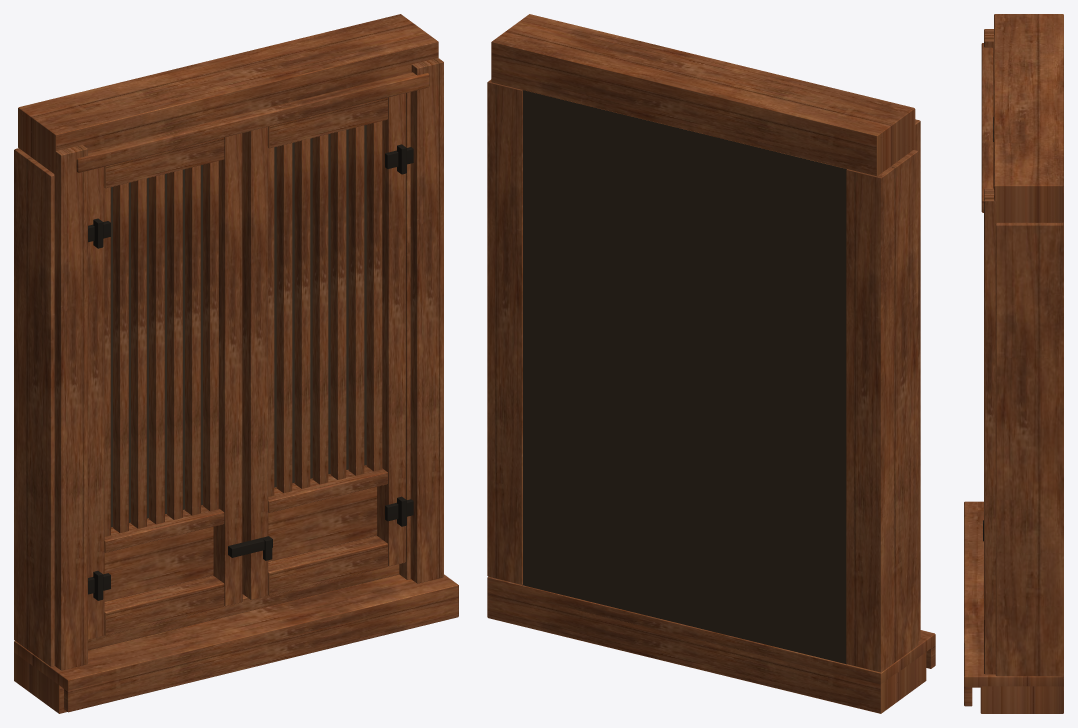
File: textile-screen-sc-v.glb
The picture shows the model from 3 angles, left to right: view 1: azimuth 30°, elevation 25°; view 2: azimuth 150°, elevation 25°; view 3: azimuth 270°, elevation 25°; orthographic projection. The views are drawn at different scales.
Parts seen in each view (by area): view 1: textile-screen-sc-v; view 2: textile-screen-sc-v; view 3: textile-screen-sc-v.
Boxes of the visible parts, x1,y1,x2,y2 form: textile-screen-sc-v: (14, 14, 458, 713); textile-screen-sc-v: (487, 14, 935, 713); textile-screen-sc-v: (964, 14, 1063, 713).
Size of the model in its own units: 1 by 1.4 by 0.24.
2 materials, 1 textured.
